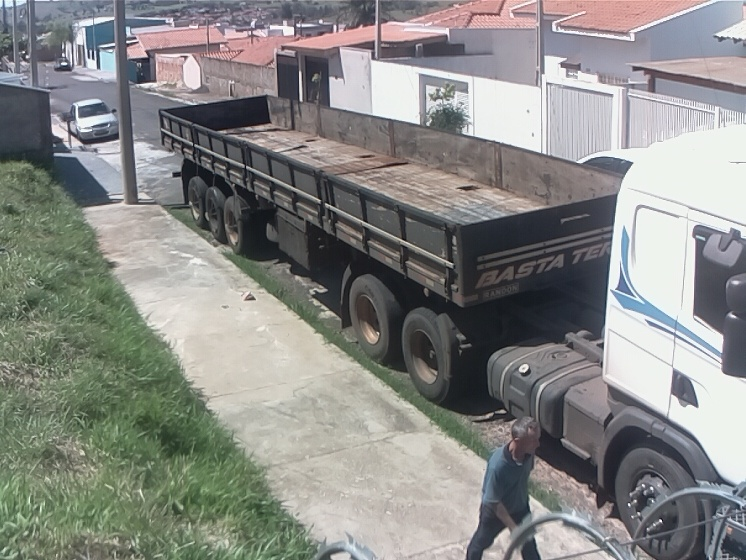person: (461, 413, 544, 560)
